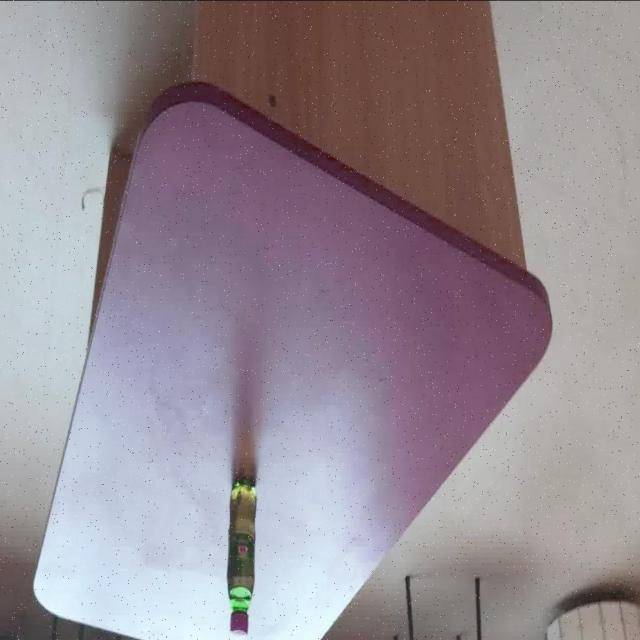Guarana: (225, 474, 257, 635)
